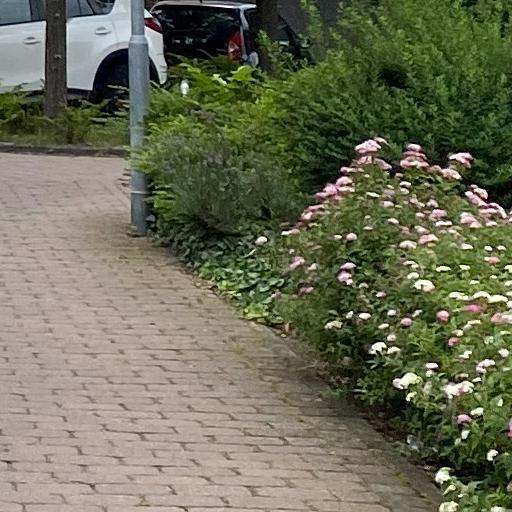tree: (44, 1, 67, 123), (252, 1, 279, 79)
